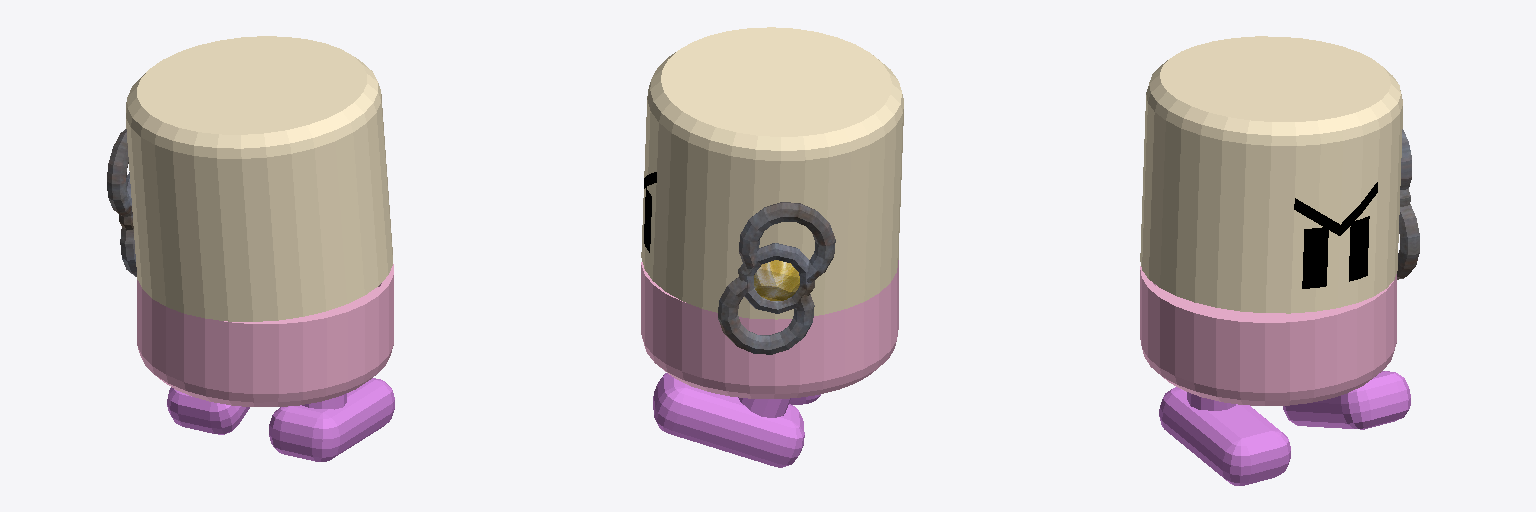
The picture shows the model from 3 angles: view 1: azimuth 30°, elevation 25°; view 2: azimuth 150°, elevation 25°; view 3: azimuth 270°, elevation 25°; orthographic projection.
Visible parts, largest first — view 1: Head, Jaw, RightLeg, WindupKey, LeftLeg; view 2: Head, Jaw, WindupKey, LeftLeg; view 3: Head, Jaw, RightLeg, LeftLeg, WindupKey.
Boxes of the visible parts, <box> form: Head: <box>126,36,392,321</box>; Jaw: <box>137,264,393,406</box>; RightLeg: <box>269,378,394,461</box>; WindupKey: <box>107,129,136,276</box>; LeftLeg: <box>167,387,249,434</box>; Head: <box>641,27,903,319</box>; Jaw: <box>641,260,898,398</box>; WindupKey: <box>718,202,835,354</box>; LeftLeg: <box>653,373,804,467</box>; Head: <box>1140,36,1402,313</box>; Jaw: <box>1140,266,1396,405</box>; RightLeg: <box>1159,387,1290,485</box>; LeftLeg: <box>1283,371,1410,429</box>; WindupKey: <box>1397,129,1419,279</box>.
Bounding box in the file's own units: 104 × 155 × 109.
Materials: 6 (2 with a texture image).